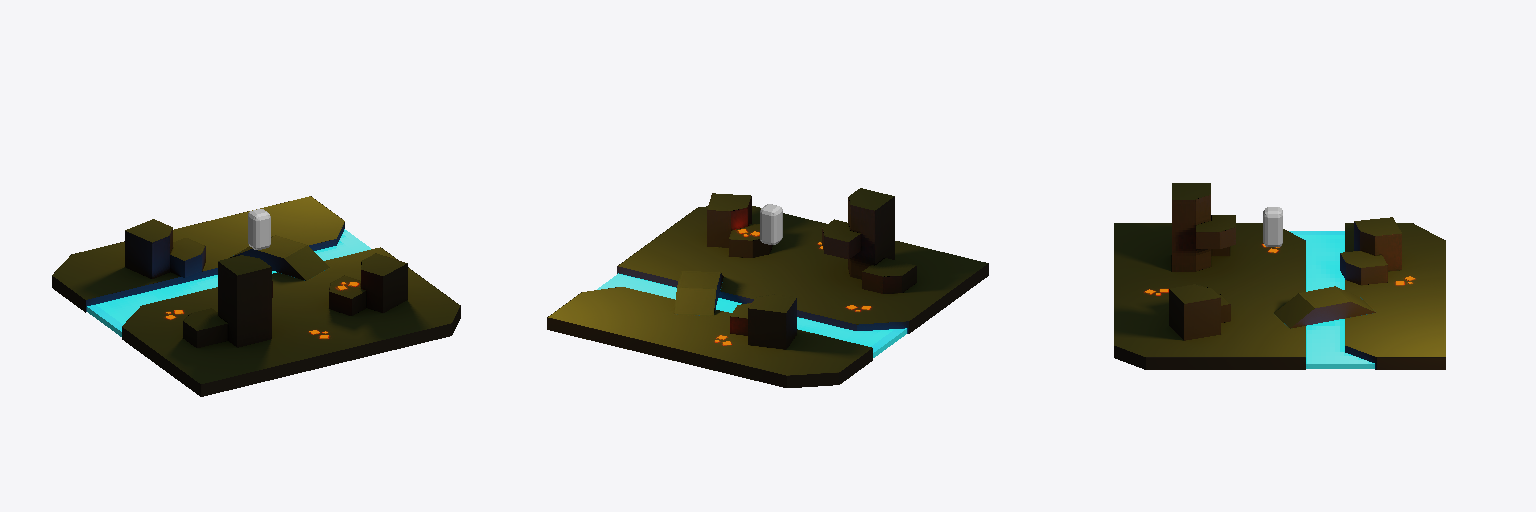
3 views of the same model, side by side, from view 1: azimuth 30°, elevation 25°; view 2: azimuth 150°, elevation 25°; view 3: azimuth 270°, elevation 25° (orthographic).
Visible parts, largest first — view 1: Terrain, Water, Hero; view 2: Terrain, Water, Hero; view 3: Terrain, Water, Hero.
Part boxes in pixels (bbox=[...]): Terrain: bbox=[52, 196, 460, 396]; Water: bbox=[87, 229, 370, 336]; Hero: bbox=[248, 209, 270, 249]; Terrain: bbox=[547, 188, 988, 387]; Water: bbox=[597, 273, 906, 357]; Hero: bbox=[760, 204, 782, 244]; Terrain: bbox=[1114, 183, 1445, 369]; Water: bbox=[1289, 231, 1374, 368]; Hero: bbox=[1263, 207, 1282, 246].
Bounding box in the file's own units: 256 × 83.3 × 267.
5 materials, 1 textured.